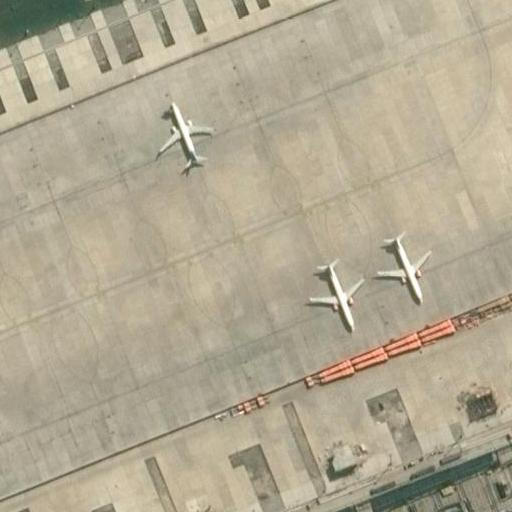Aircraft: (304, 257, 364, 333), (155, 102, 211, 172), (377, 235, 432, 305)
